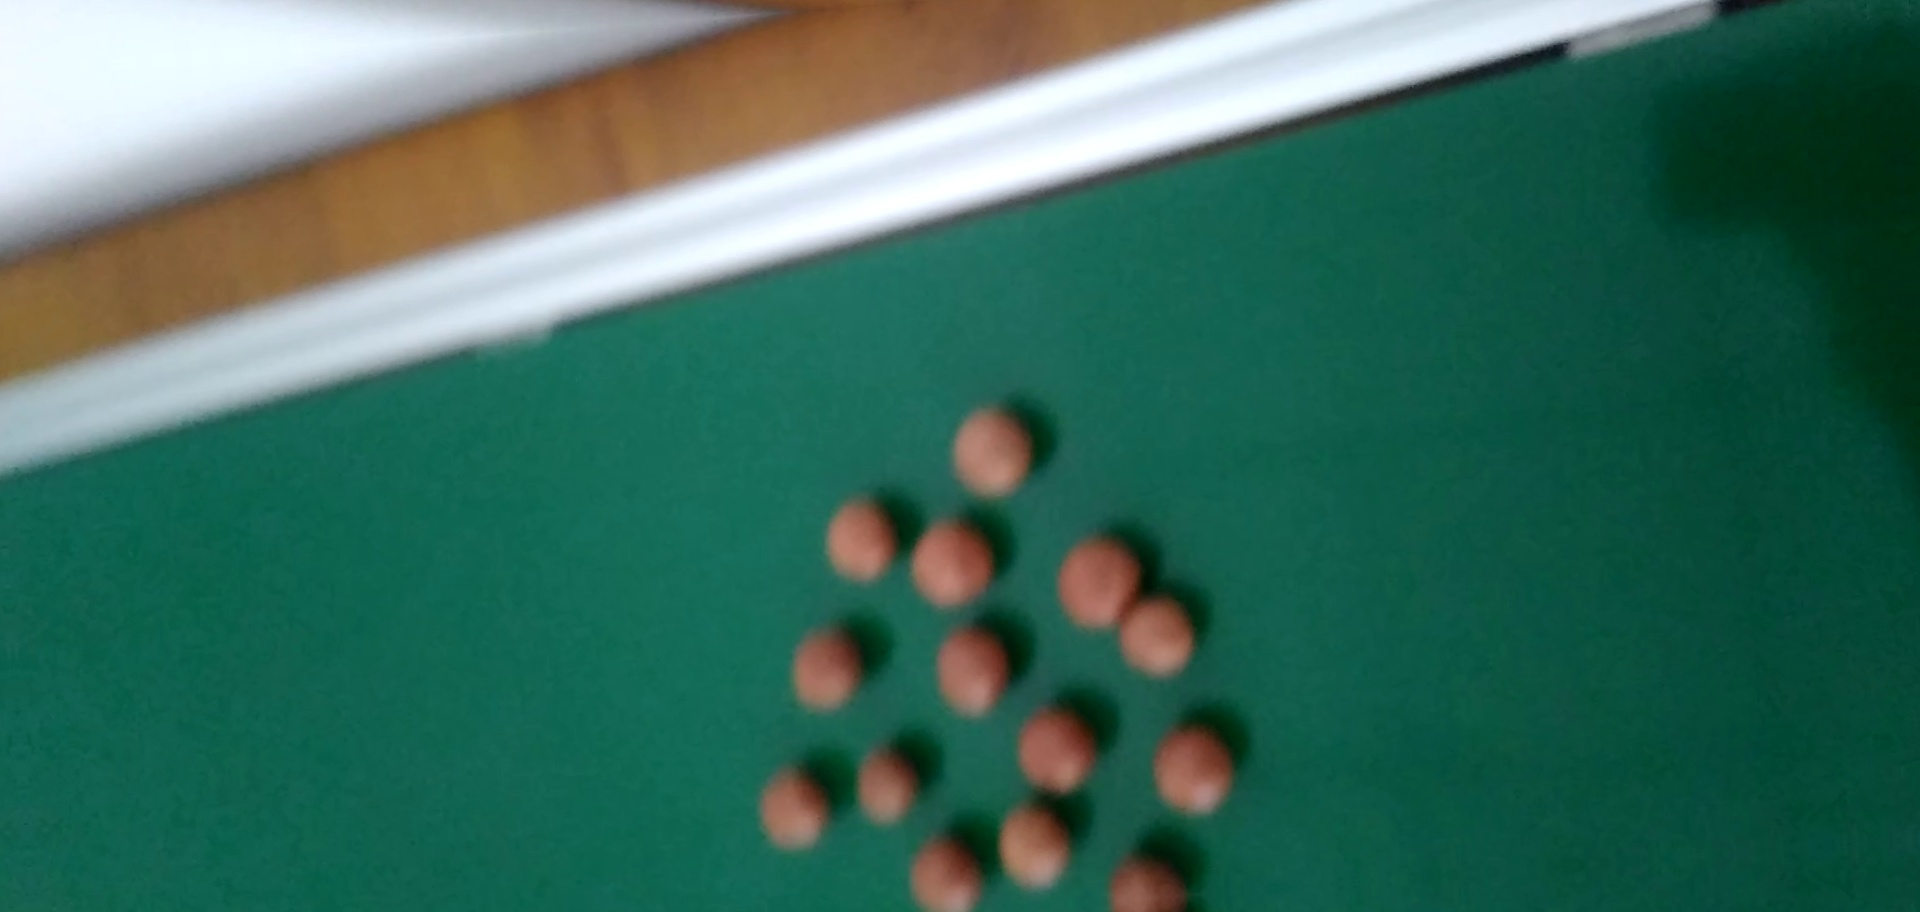mac: (1051, 533, 1142, 638), (945, 405, 1037, 501), (907, 512, 996, 611), (1146, 728, 1233, 821), (928, 628, 1011, 723), (822, 492, 898, 586), (988, 805, 1070, 892), (785, 624, 864, 710), (747, 769, 827, 852), (1010, 709, 1090, 792), (1116, 599, 1194, 678), (899, 839, 976, 912), (851, 749, 912, 826), (1097, 854, 1178, 903)
